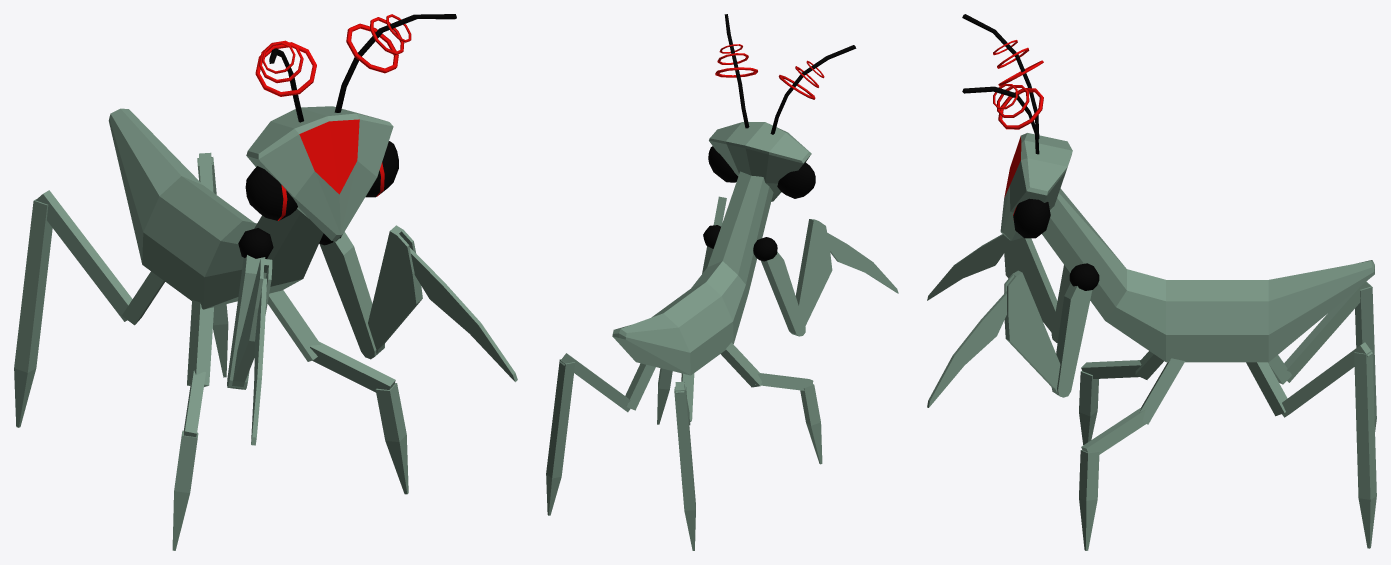
File: InimigoLouvaDeus.fbx
The picture shows the model from 3 angles, left to right: view 1: azimuth 30°, elevation 25°; view 2: azimuth 150°, elevation 25°; view 3: azimuth 270°, elevation 25°; orthographic projection. The views are drawn at different scales.
Parts seen in each view (by area): view 1: Cube; view 2: Cube; view 3: Cube.
Part boxes in pixels (bbox=[...]): Cube: bbox=[14, 14, 517, 550]; Cube: bbox=[546, 14, 898, 550]; Cube: bbox=[927, 14, 1376, 550].
Bounding box in the file's own units: 6.71 × 13.03 × 11.69.
